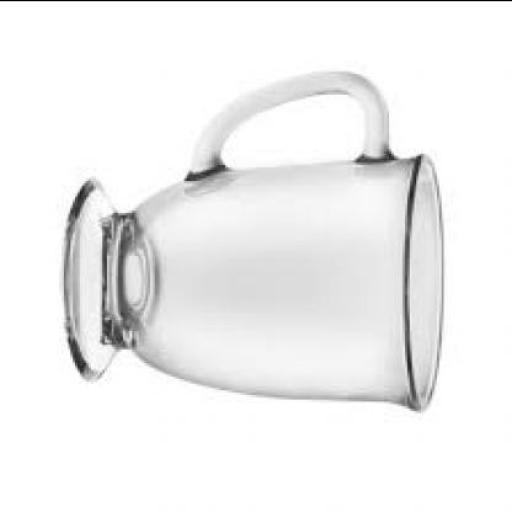glass: (66, 73, 448, 412)
